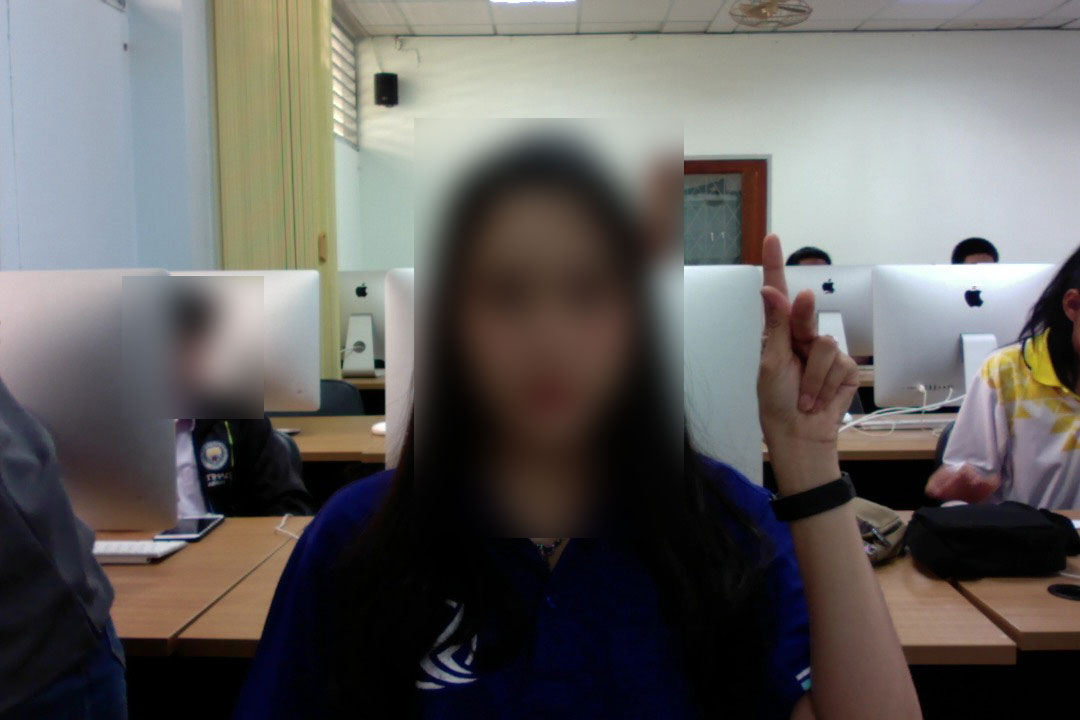ko: (742, 227, 868, 470)
